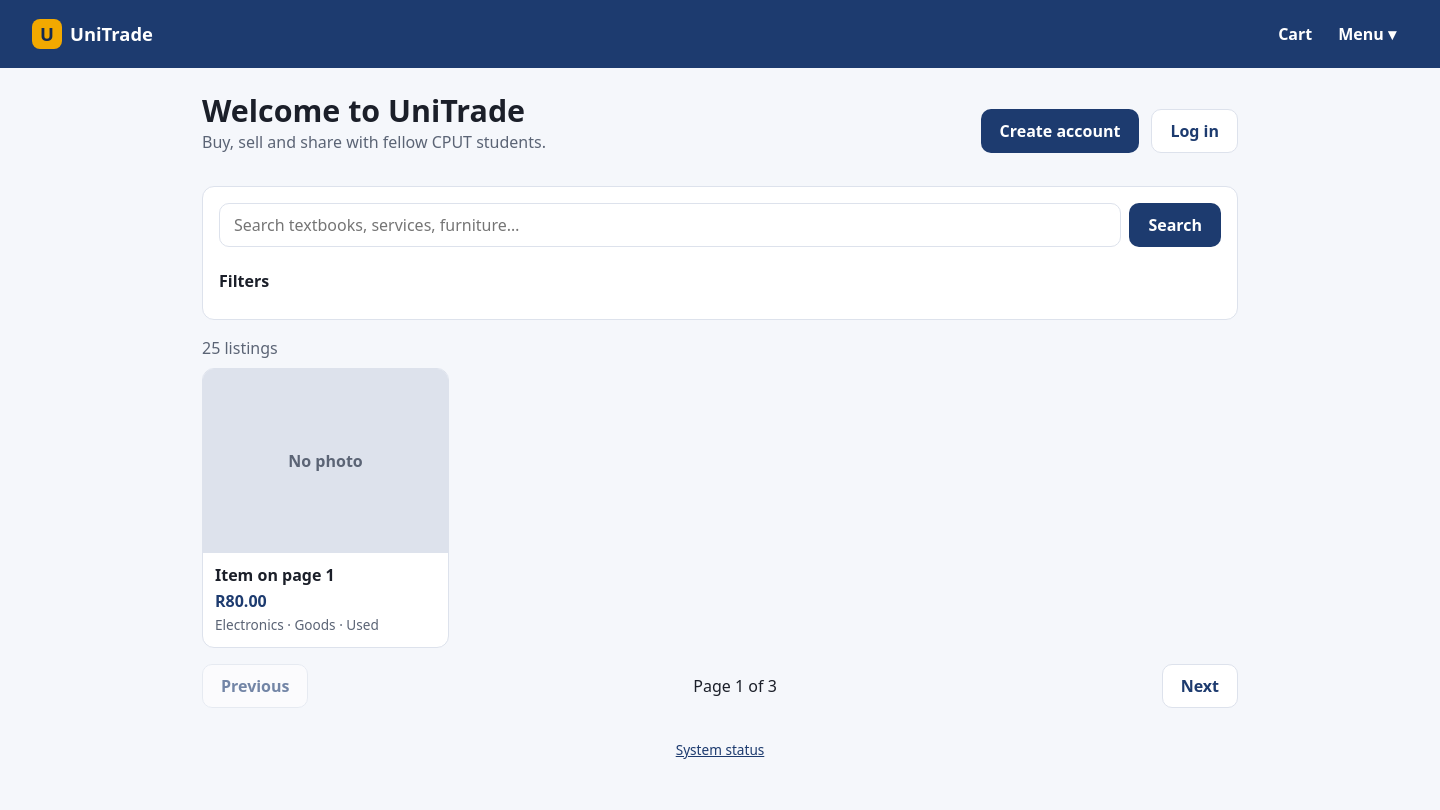
Test: FR3 - browse, search and filter › fr3_07 paging: Next asks for the following page and the position is shown
Expected: the text "Item on page 1" is shown, [215,564,335,586]
Expected: the text "Page 1 of 3" is shown, [693,674,777,698]
Click the button "Next" at [1200, 686], box [1162,664,1238,708]
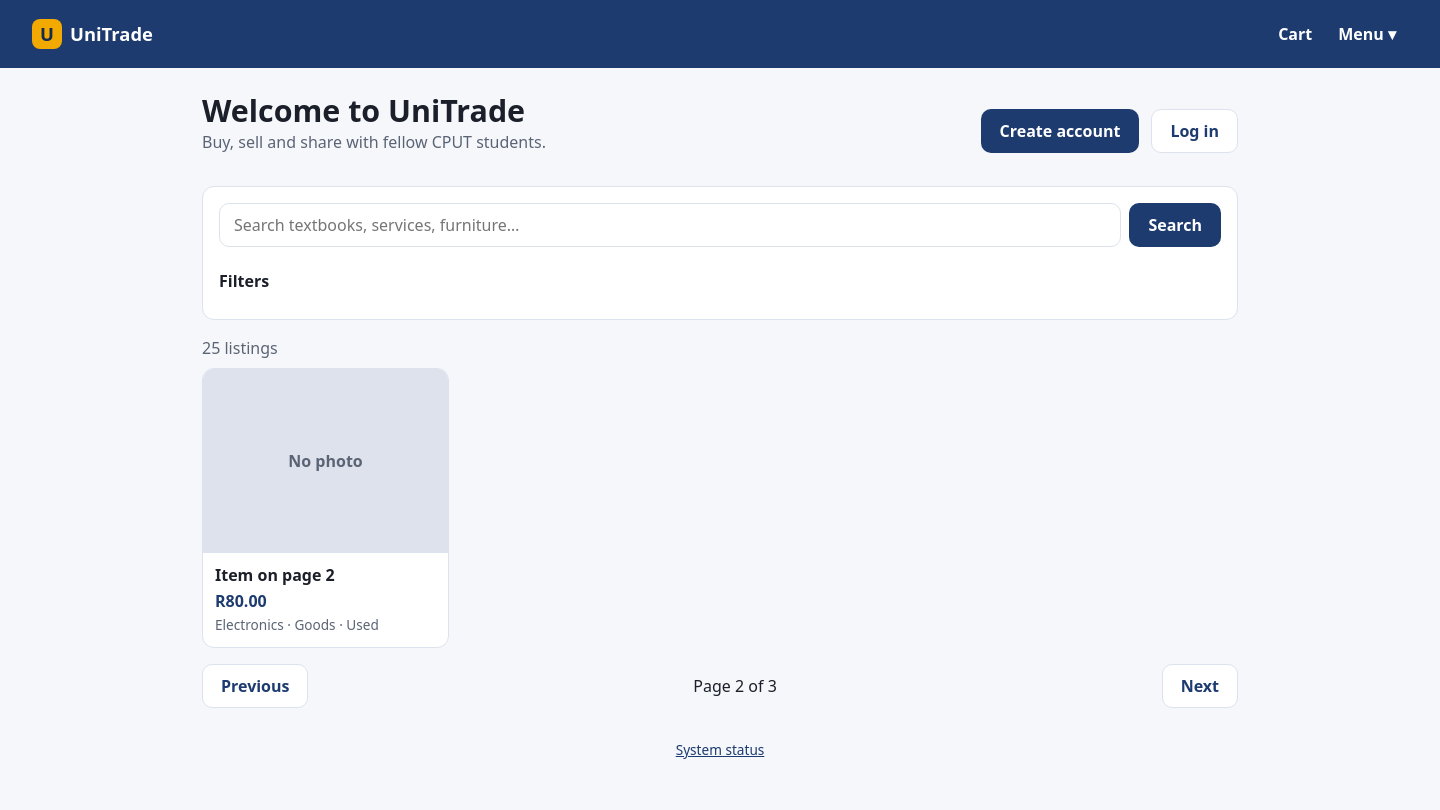
Result: the text "Item on page 2" is shown at [215,564,335,586]
Result: the text "Page 2 of 3" is shown at [693,674,777,698]
